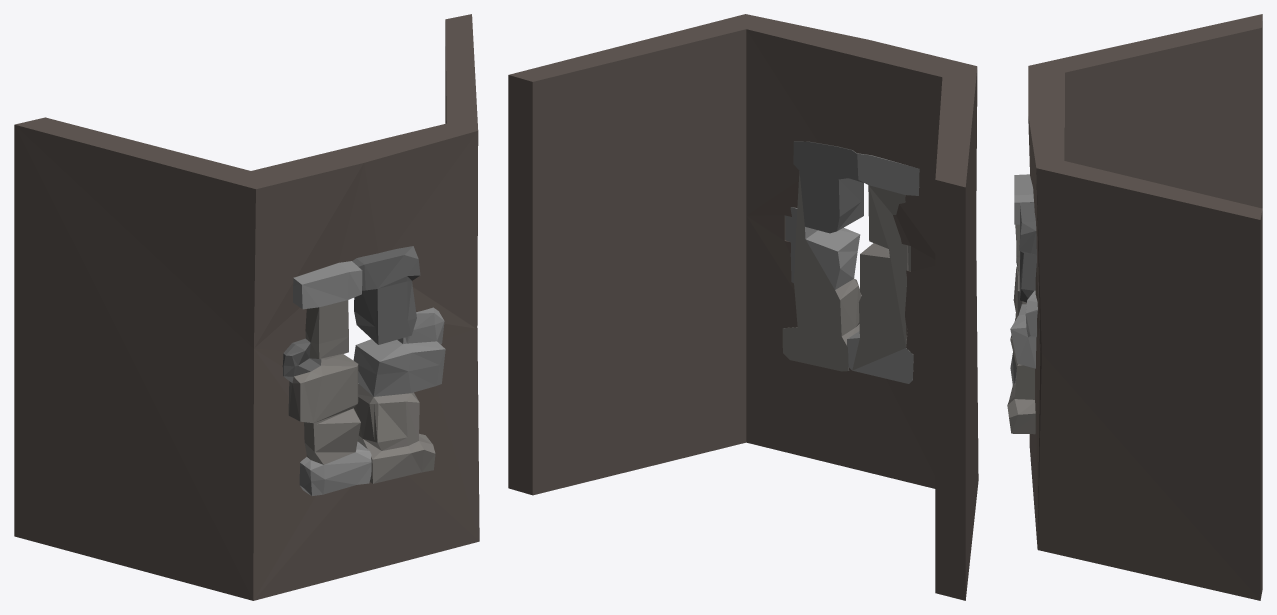
File: MCastle_SmallTurret_02.FBX
3 renders of one model, left to right at view 1: azimuth 30°, elevation 25°; view 2: azimuth 150°, elevation 25°; view 3: azimuth 270°, elevation 25°, orthographic. The views are drawn at different scales.
Parts seen in each view (by area): view 1: MCastle_SmallTurret_02_LOD0; view 2: MCastle_SmallTurret_02_LOD0; view 3: MCastle_SmallTurret_02_LOD0.
Part boxes in pixels (x1,y1,x2,y2): MCastle_SmallTurret_02_LOD0: (14, 14, 479, 600); MCastle_SmallTurret_02_LOD0: (508, 14, 978, 600); MCastle_SmallTurret_02_LOD0: (1007, 14, 1262, 600).
Size of what is drawn, in the model's own units: 5.24 by 4.52 by 2.74.
